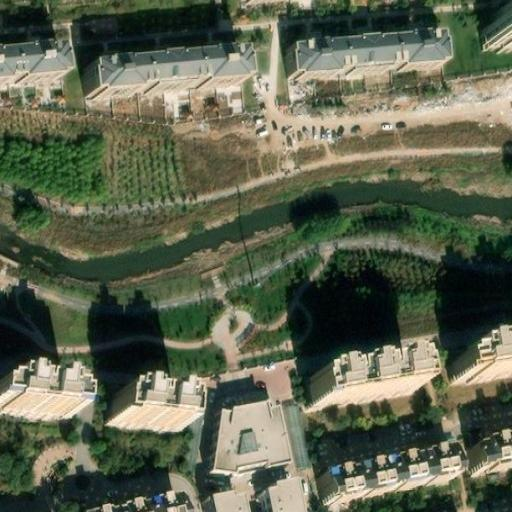building: (291, 27, 447, 85), (86, 48, 246, 97), (328, 451, 460, 505), (207, 407, 287, 482), (305, 363, 415, 415), (108, 393, 187, 435), (0, 43, 66, 87), (469, 340, 512, 386), (482, 5, 512, 55), (212, 82, 246, 117), (104, 497, 179, 512), (482, 436, 512, 473), (262, 483, 298, 512), (207, 490, 250, 512)
